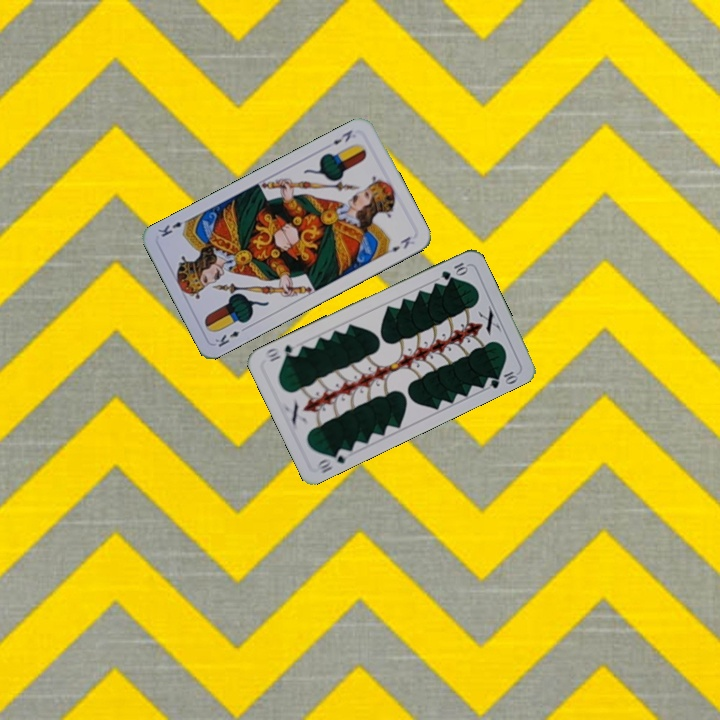EK: (211, 322, 250, 350), (329, 126, 355, 147)
G10: (314, 444, 352, 476), (437, 258, 470, 283)
